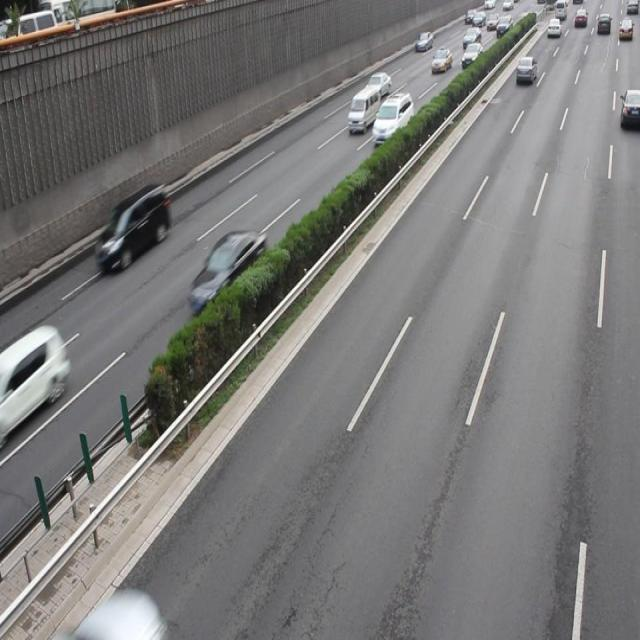car: (187, 228, 267, 318), (1, 325, 68, 426), (618, 89, 640, 130)
truck: (95, 184, 170, 272), (370, 92, 412, 146), (347, 88, 379, 134)
